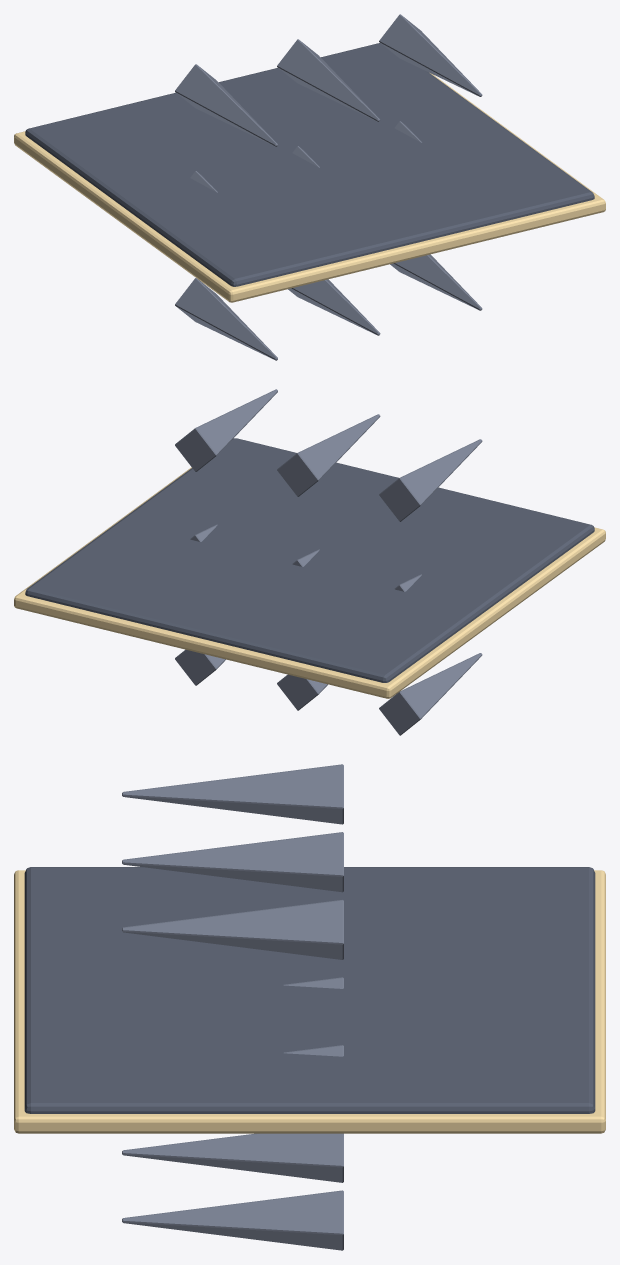
Rendered from Env_SpikeTrap.fbx.
The picture shows the model from 3 angles, top to bottom: view 1: azimuth 30°, elevation 25°; view 2: azimuth 150°, elevation 25°; view 3: azimuth 270°, elevation 25°; orthographic projection. The views are drawn at different scales.
Parts seen in each view (by area): view 1: TrapPlate, TrapBorder, Spike_0.0_0.52, Spike_0.52_0.52, Spike_-0.52_0.52, Spike_-0.52_-0.52, Spike_0.52_-0.52, Spike_0.0_-0.52; view 2: TrapPlate, TrapBorder, Spike_-0.52_-0.52, Spike_-0.52_0.52, Spike_0.0_0.52, Spike_0.52_0.52, Spike_0.52_-0.52, Spike_0.0_-0.52; view 3: TrapPlate, TrapBorder, Spike_-0.52_0.52, Spike_0.52_-0.52, Spike_0.0_0.52, Spike_0.52_0.52, Spike_0.0_-0.52.
Boxes of the visible parts, x1,y1,x2,y2 form: TrapPlate: (25, 43, 594, 286); TrapBorder: (14, 73, 605, 302); Spike_0.0_0.52: (277, 39, 380, 121); Spike_0.52_0.52: (379, 14, 482, 96); Spike_-0.52_0.52: (175, 64, 277, 146); Spike_-0.52_-0.52: (175, 278, 277, 360); Spike_0.52_-0.52: (390, 254, 482, 310); Spike_0.0_-0.52: (288, 279, 380, 335); TrapPlate: (25, 438, 594, 682); TrapBorder: (14, 467, 605, 698); Spike_-0.52_-0.52: (379, 653, 482, 735); Spike_-0.52_0.52: (379, 439, 482, 521); Spike_0.0_0.52: (277, 414, 380, 496); Spike_0.52_0.52: (175, 389, 277, 471); Spike_0.52_-0.52: (175, 649, 225, 685); Spike_0.0_-0.52: (277, 674, 327, 710); TrapPlate: (24, 867, 595, 1113); TrapBorder: (14, 870, 605, 1133); Spike_-0.52_0.52: (122, 764, 343, 824); Spike_0.52_-0.52: (122, 1190, 343, 1250); Spike_0.0_0.52: (122, 832, 343, 892); Spike_0.52_0.52: (122, 900, 343, 959); Spike_0.0_-0.52: (122, 1133, 343, 1182).
Bounding box in the file's own units: 1.92 × 1.25 × 1.92.
